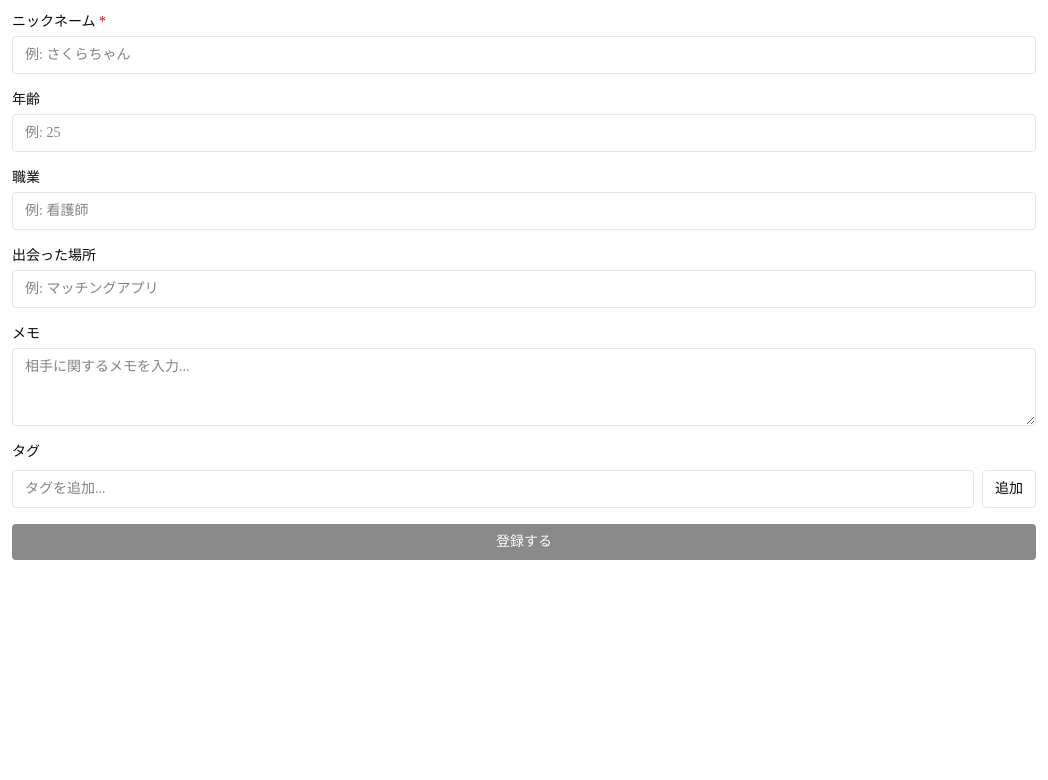
Test: PartnerForm › tag management › can add a tag via input + button
Type "優しい" into the field with placeholder "タグを追加..." at [493, 489], box [12,470,974,508]
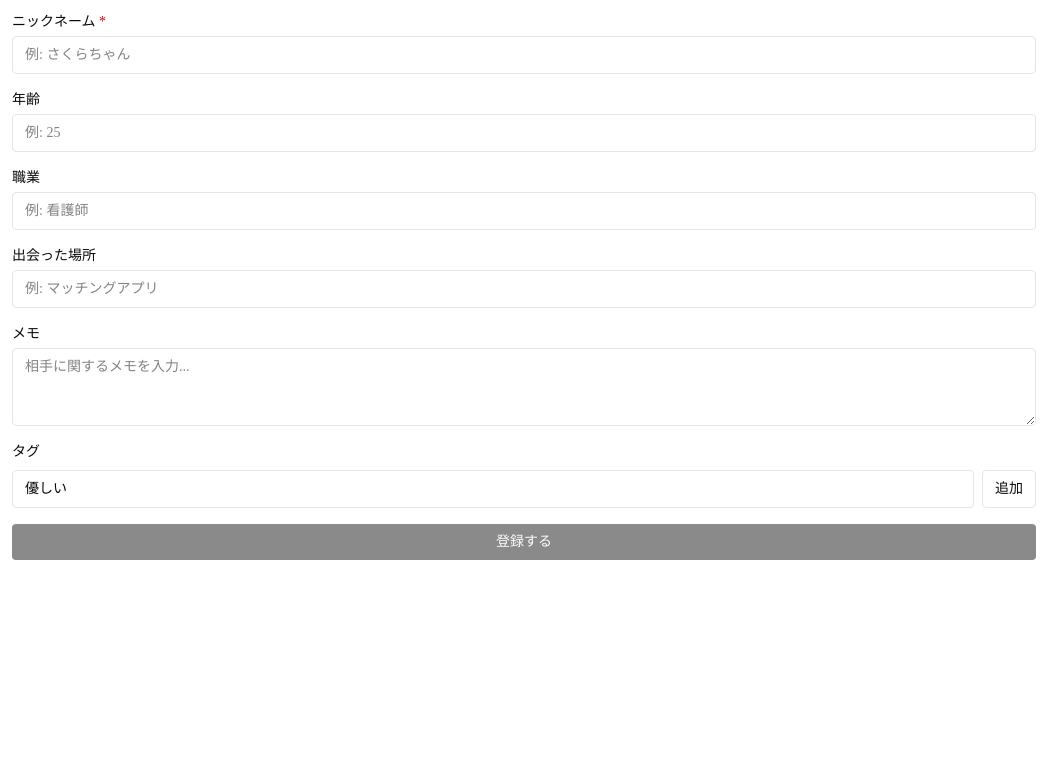
Click the button "追加" at [1009, 489], box [982,470,1036,508]
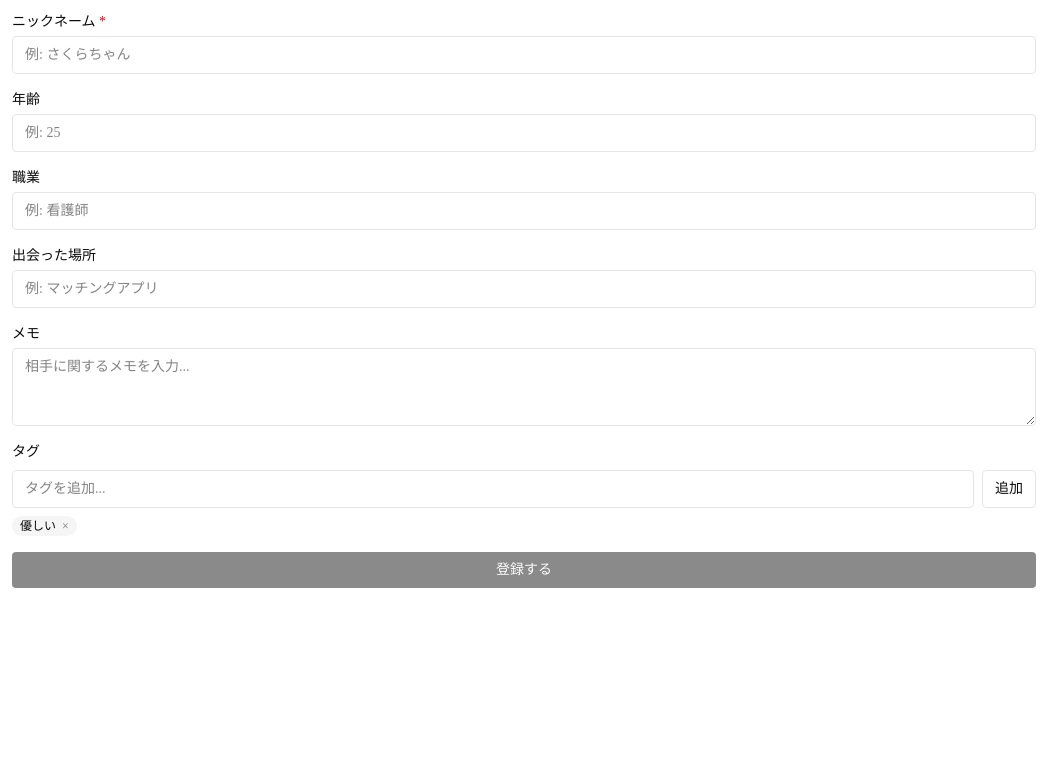
Check: the text "優しい" is shown, box [20,519,56,533]
